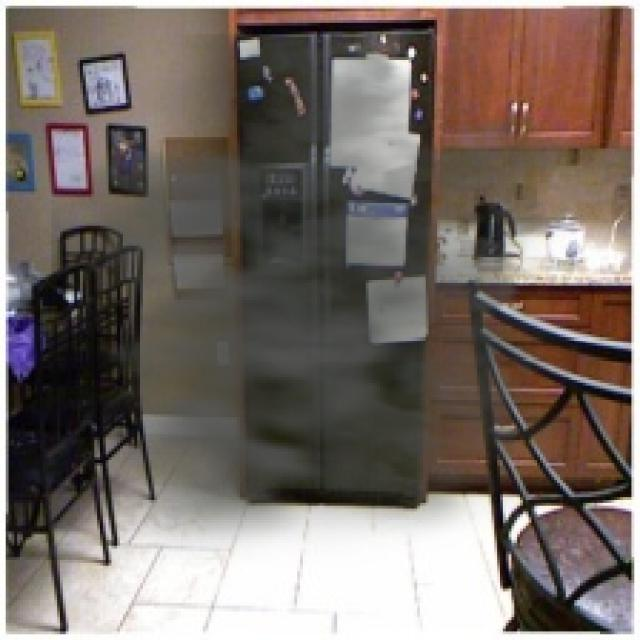smoke: (51, 34, 620, 566)
